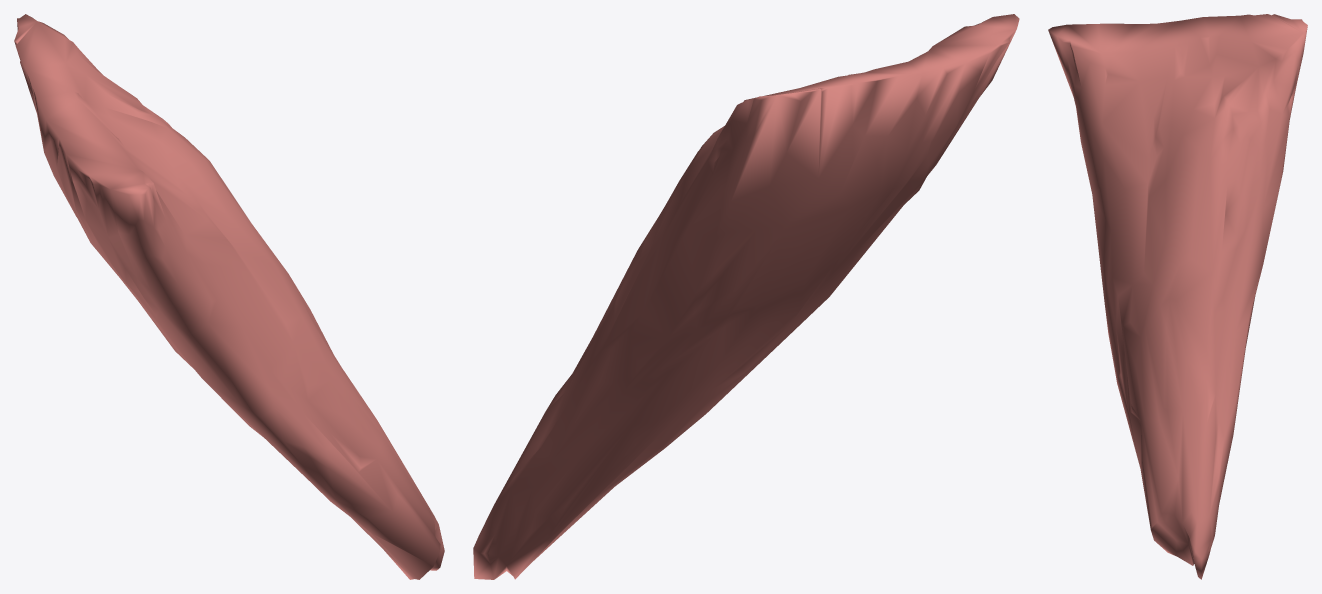
3 views of the same model, side by side, from view 1: azimuth 30°, elevation 25°; view 2: azimuth 150°, elevation 25°; view 3: azimuth 270°, elevation 25° (orthographic). The views are drawn at different scales.
Parts seen in each view (by area): view 1: ZA_65cef8409c128742; view 2: ZA_65cef8409c128742; view 3: ZA_65cef8409c128742.
Part boxes in pixels (x1,y1,x2,y2): ZA_65cef8409c128742: (14, 14, 444, 579); ZA_65cef8409c128742: (473, 14, 1019, 579); ZA_65cef8409c128742: (1048, 14, 1307, 579).
Bounding box in the file's own units: 0.0353 × 0.0466 × 0.0253.
